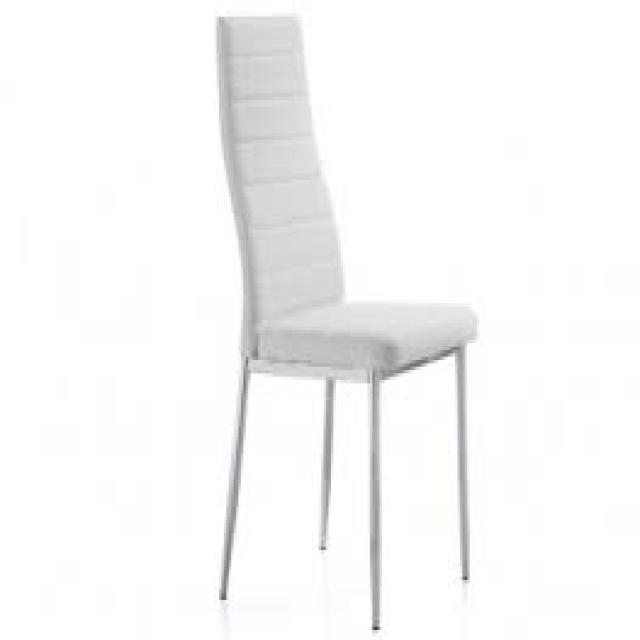bottle: (217, 11, 483, 633)
